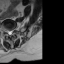CCS_stenosis: (9, 28, 10, 37)
LFS_stenosis: (12, 26, 14, 32)
LLS_normal: (10, 28, 12, 36)
RFS_normal: (5, 28, 7, 35)
RLS_normal: (7, 29, 9, 36)
